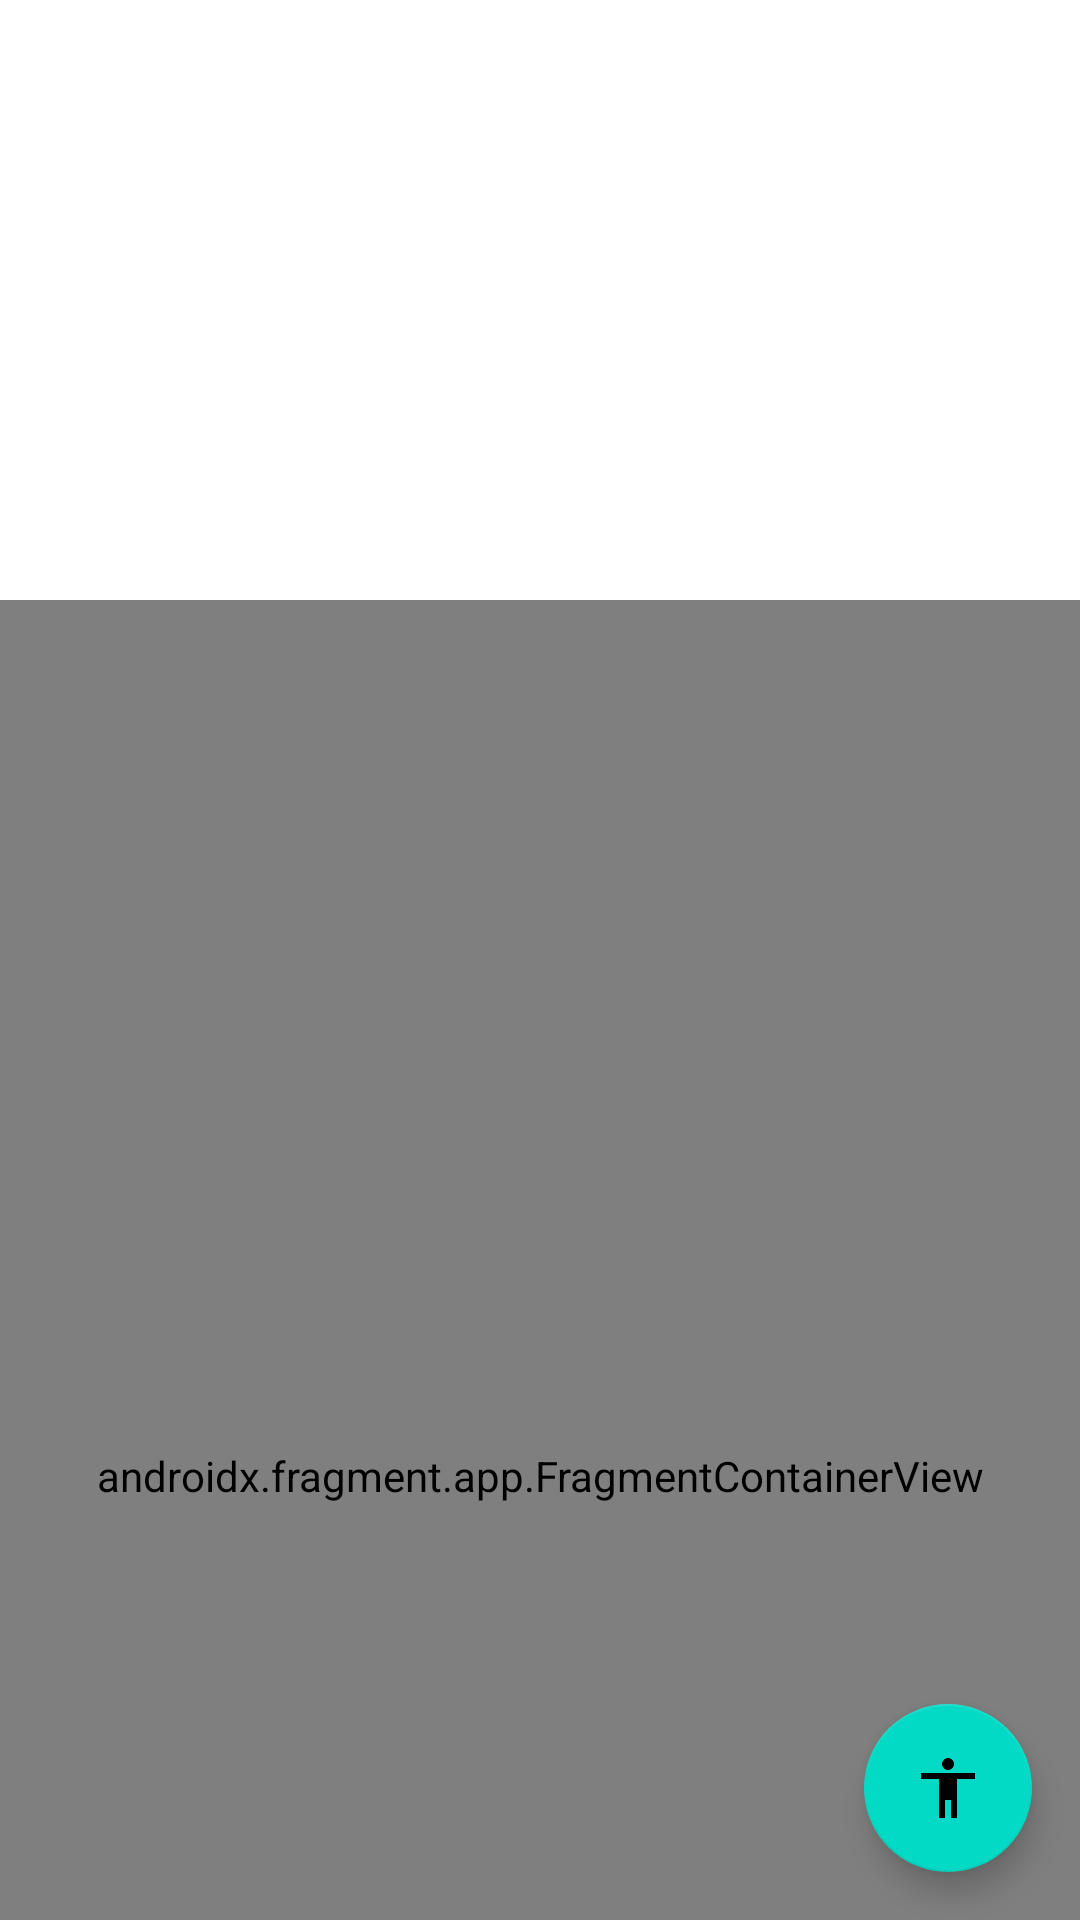

Icon click points for this 1080*1920 phone screenshot, format [x,y]:
accessibility: [948,1788]
